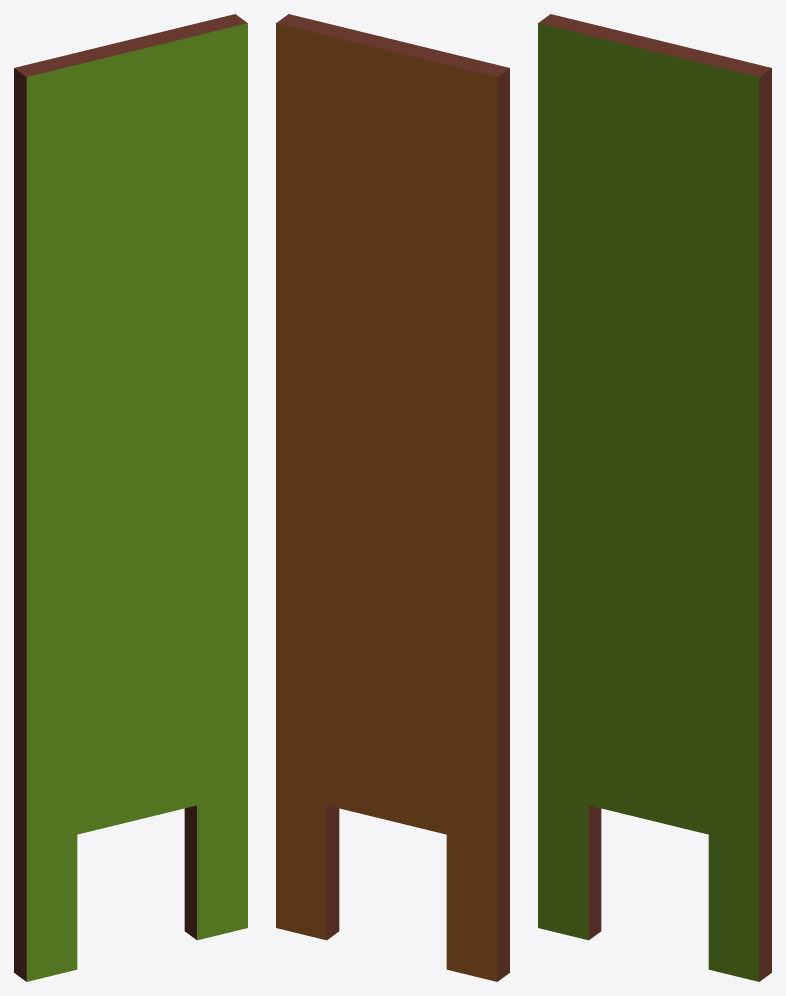
Rendered from ParedHuecoAbajo.fbx.
3 renders of one model, left to right at view 1: azimuth 30°, elevation 25°; view 2: azimuth 150°, elevation 25°; view 3: azimuth 330°, elevation 25°, orthographic.
Visible parts, largest first — view 1: ParedHuecoAbajo; view 2: ParedHuecoAbajo; view 3: ParedHuecoAbajo.
Part boxes in pixels (x1,y1,x2,y2): ParedHuecoAbajo: (14,14,247,981); ParedHuecoAbajo: (276,14,509,981); ParedHuecoAbajo: (538,14,771,981).
Size of the model in its own units: 102 by 398 by 10.
